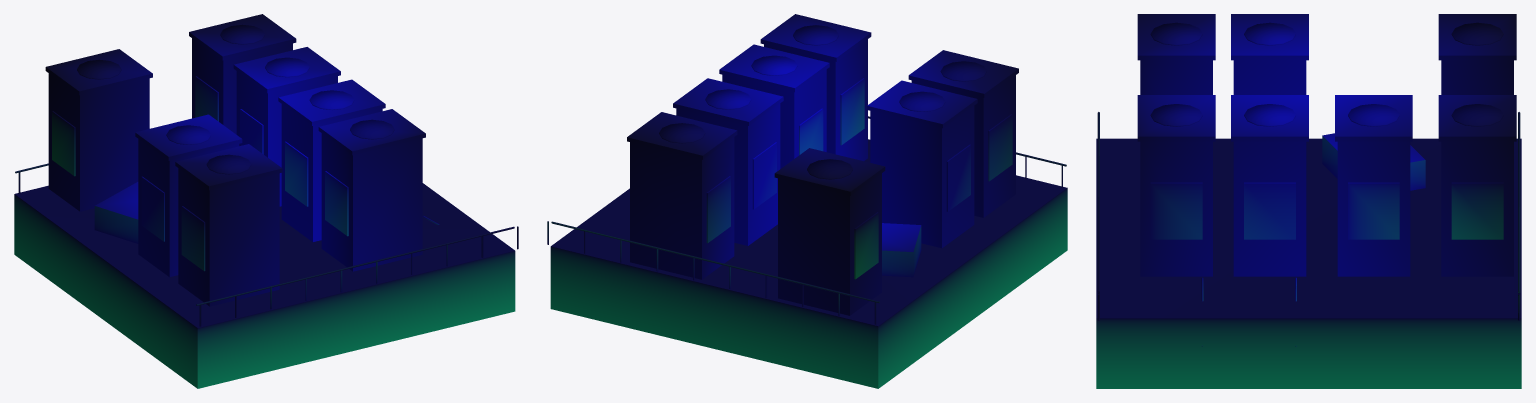
File: transformerstation_damaged.glb
The picture shows the model from 3 angles, left to right: view 1: azimuth 30°, elevation 25°; view 2: azimuth 150°, elevation 25°; view 3: azimuth 270°, elevation 25°; orthographic projection. The views are drawn at different scales.
Parts seen in each view (by area): view 1: lod0; view 2: lod0; view 3: lod0.
Boxes of the visible parts, x1,y1,x2,y2 form: lod0: [14, 14, 518, 388]; lod0: [547, 14, 1067, 388]; lod0: [1096, 14, 1521, 388].
Size of what is drawn, in the model's own units: 16.62 by 9.05 by 16.4.
